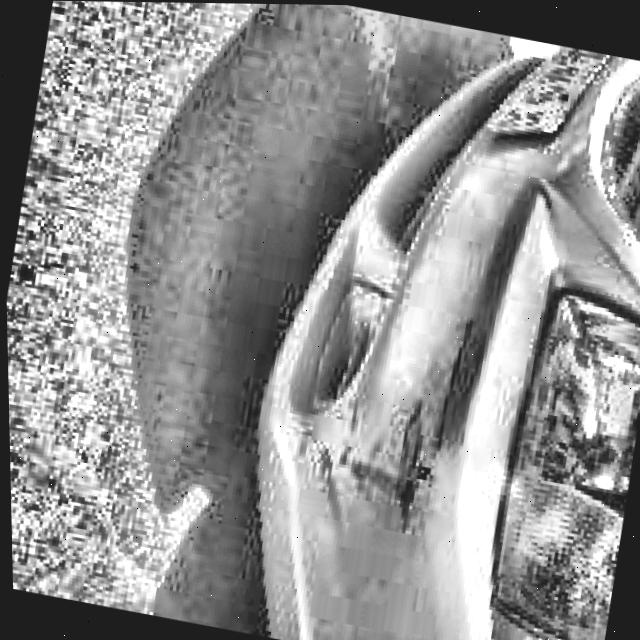bumper_scratch: (357, 291, 482, 532), (280, 415, 365, 522)
